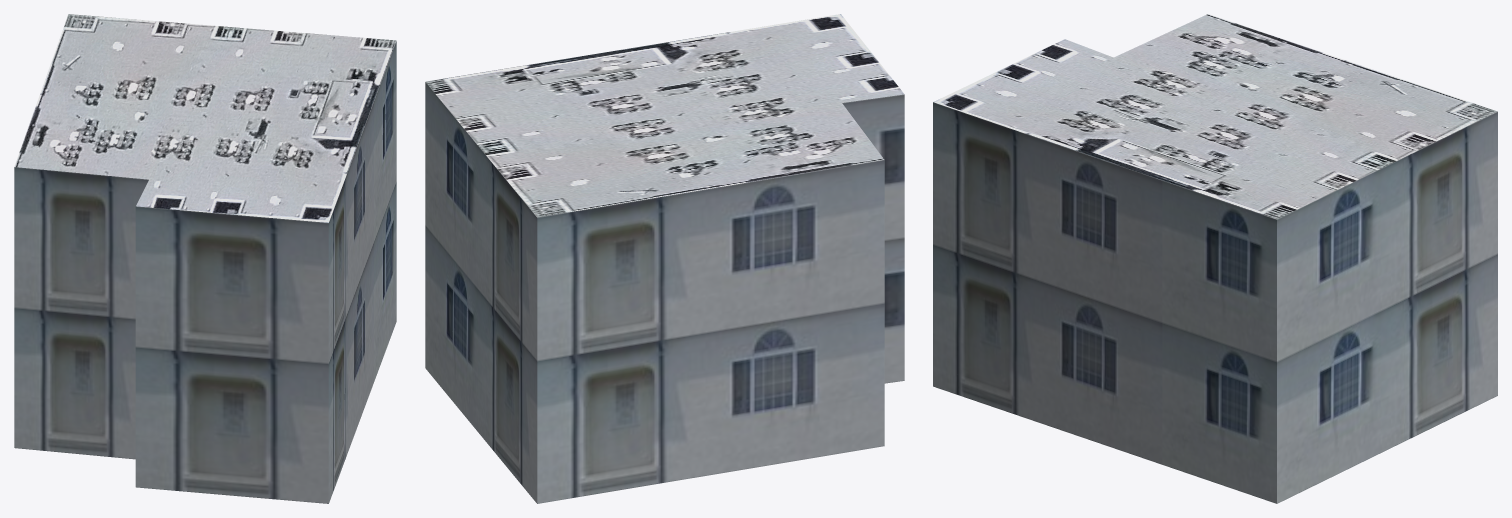
File: ResTex__2921.fbx
3 views of the same model, side by side, from view 1: azimuth 30°, elevation 25°; view 2: azimuth 150°, elevation 25°; view 3: azimuth 270°, elevation 25° (orthographic).
Parts seen in each view (by area): view 1: CityEngineMaterial_17_m, CityEngineMaterial_4_m; view 2: CityEngineMaterial_17_m, CityEngineMaterial_4_m; view 3: CityEngineMaterial_17_m, CityEngineMaterial_4_m.
Part boxes in pixels (x1,y1,x2,y2): CityEngineMaterial_17_m: (14, 41, 396, 503); CityEngineMaterial_4_m: (14, 14, 396, 222); CityEngineMaterial_17_m: (425, 82, 904, 503); CityEngineMaterial_4_m: (425, 14, 904, 217); CityEngineMaterial_17_m: (933, 102, 1497, 503); CityEngineMaterial_4_m: (933, 14, 1497, 219).
Size of the model in its own units: 9.31 by 6 by 10.8.
Materials: 2 (2 with a texture image).
